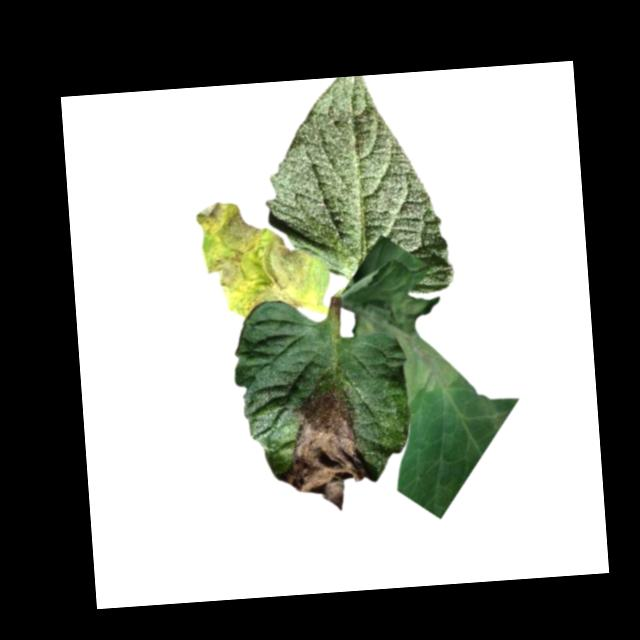Late_blight: (194, 196, 315, 320), (349, 287, 462, 412), (276, 387, 372, 514)
healthy: (256, 70, 454, 302)
